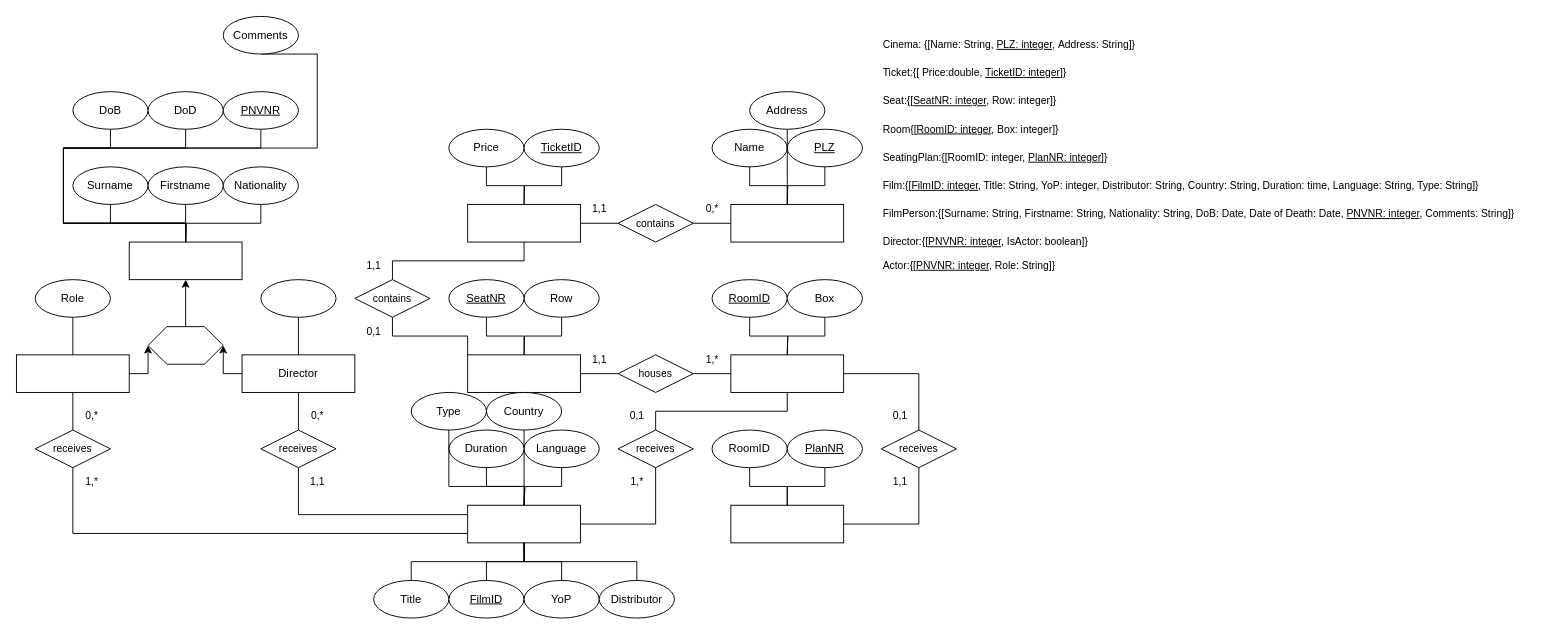
This 1556x635 diagram has some shape labels left out. The shapes that lost their labels are listed below. From the top down, each one's centre as x and y in pixels, then its label:
At point 523,223: "Ticket".
At point 787,223: "Cinema".
At point 185,260: "FilmPerson".
At point 298,298: "IsActor".
At point 185,345: "is-a".
At point 72,373: "Actors".
At point 523,373: "Seat".
At point 787,373: "Room".
At point 523,523: "Film".
At point 787,523: "SeatingPlan".
